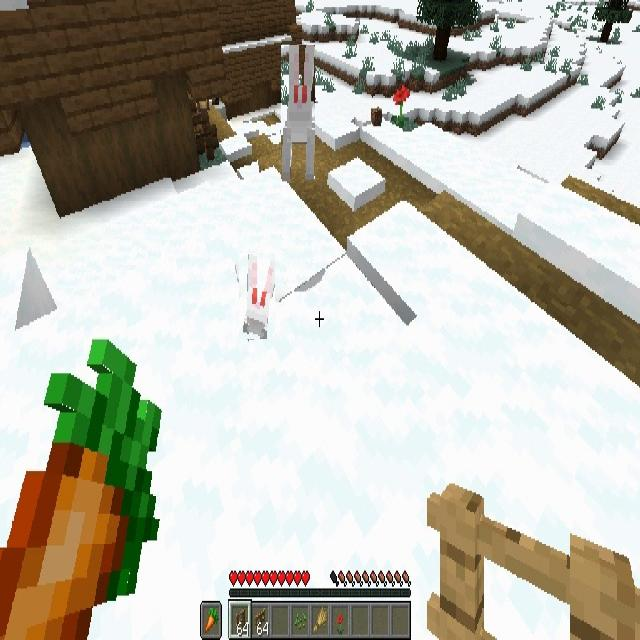rabbit: (281, 45, 315, 179), (239, 253, 275, 339)
